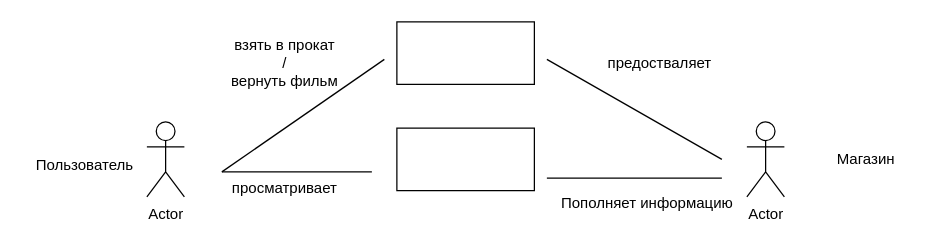
Image size: 930x245. Some labels were removed from this diagram. Each missing label, with the centre of its shape:
"товары в наличии" belongs at [465,159].
"Фильмы" belongs at [465,52].
